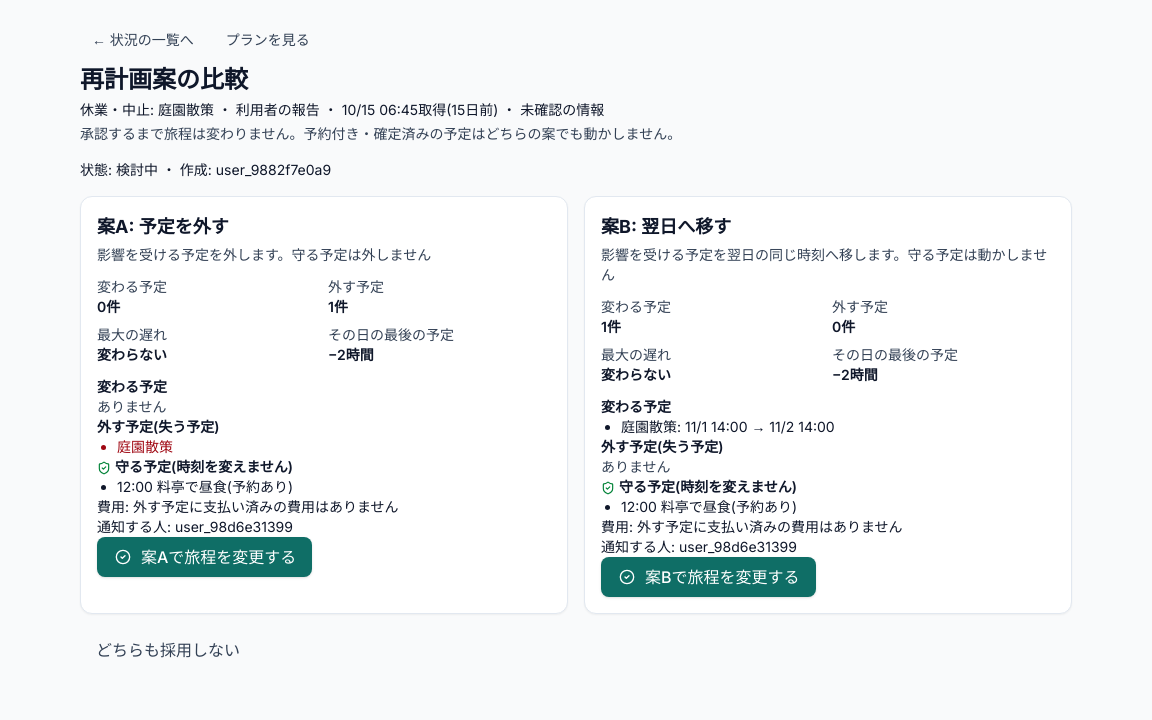
Test case: ReplanPage (Gate P10) › どちらも採用しない
Click the button "どちらも採用しない". click: (168, 650)
box: [80,630,256,670]
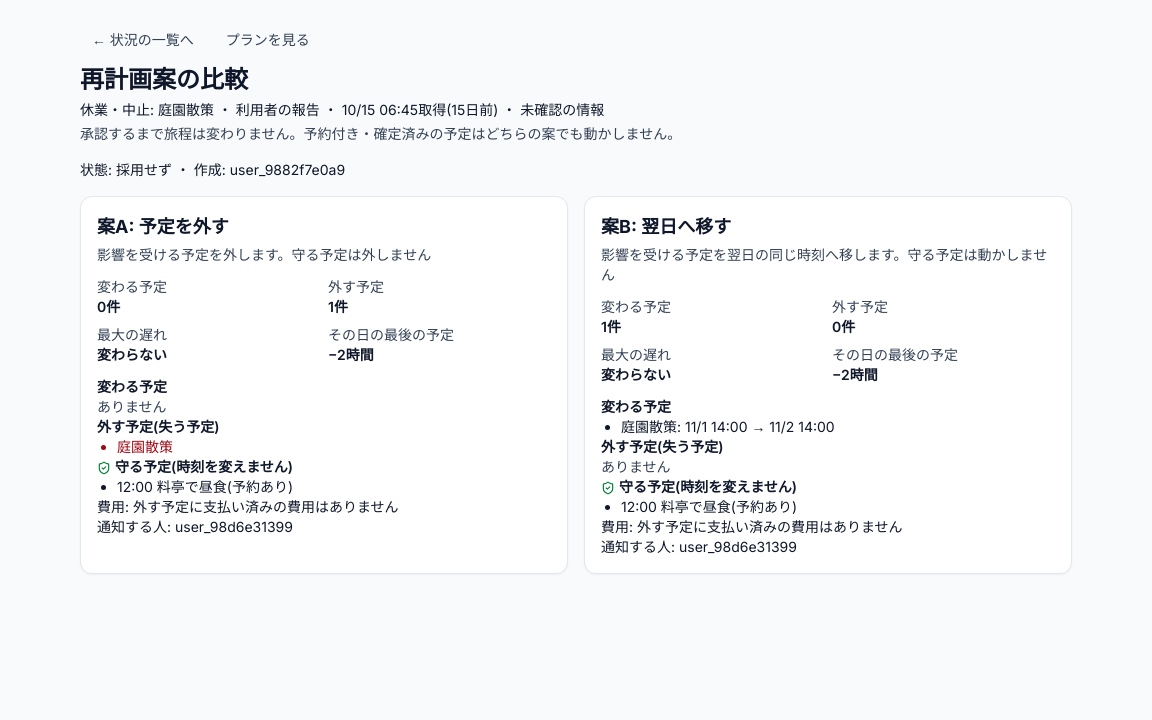
Result: the text "状態: 採用せず ・ 作成: user_9882f7e0a9" is shown at [80,161,345,178]
